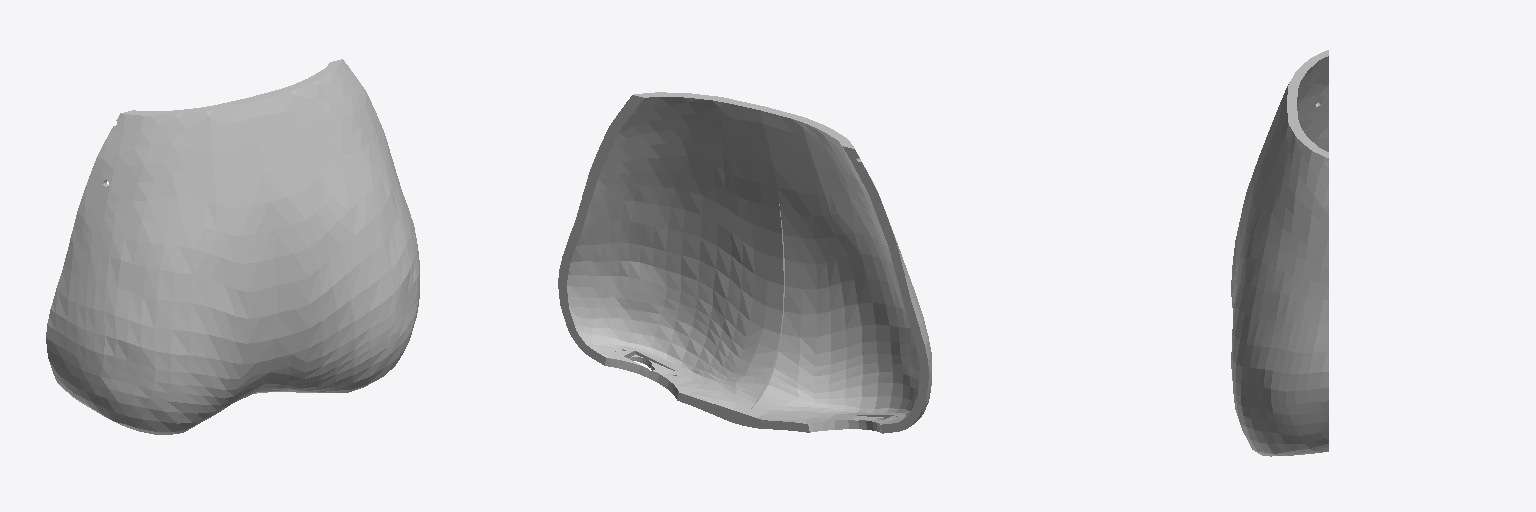
File: example_head_top.obj
3 views of the same model, side by side, from view 1: azimuth 30°, elevation 25°; view 2: azimuth 150°, elevation 25°; view 3: azimuth 270°, elevation 25° (orthographic).
Parts seen in each view (by area): view 1: MeshBody1 (1); view 2: MeshBody1 (1); view 3: MeshBody1 (1).
Part boxes in pixels (x1,y1,x2,y2): MeshBody1 (1): (46, 59, 419, 434); MeshBody1 (1): (558, 92, 931, 433); MeshBody1 (1): (1231, 50, 1328, 456).
Size of the model in its own units: 200 by 156 by 45.55.